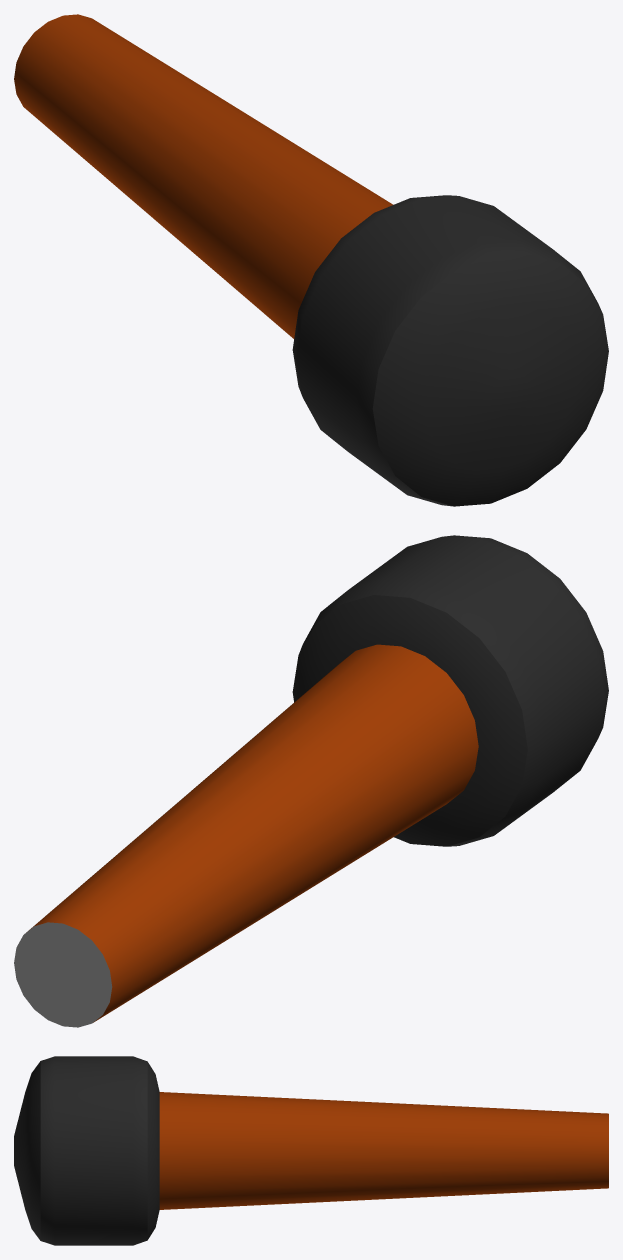
Rendered from microphone.fbx.
The picture shows the model from 3 angles, top to bottom: view 1: azimuth 30°, elevation 25°; view 2: azimuth 150°, elevation 25°; view 3: azimuth 270°, elevation 25°; orthographic projection. The views are drawn at different scales.
Visible parts, largest first — view 1: pCylinder1; view 2: pCylinder1; view 3: pCylinder1.
Boxes of the visible parts, bbox=[...] form: pCylinder1: bbox=[14, 14, 608, 506]; pCylinder1: bbox=[14, 535, 608, 1027]; pCylinder1: bbox=[14, 1056, 608, 1245].
Size of the model in its own units: 10.27 by 10.27 by 32.07.
